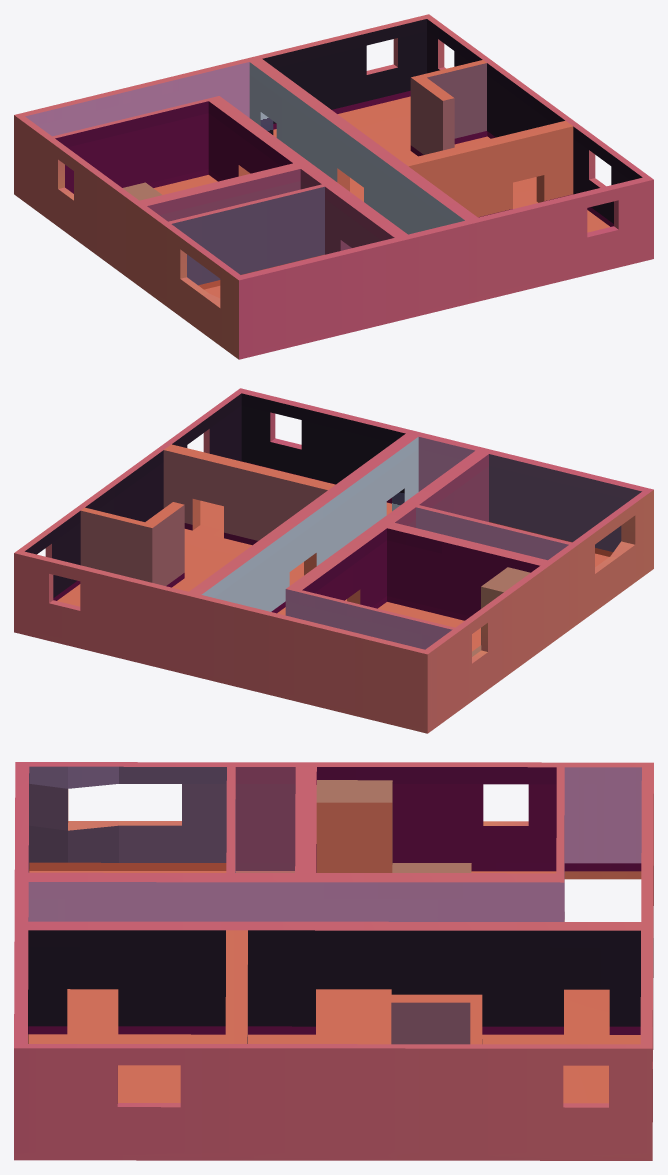
Rendered from House_SecondFloor.fbx.
3 renders of one model, top to bottom at view 1: azimuth 30°, elevation 25°; view 2: azimuth 150°, elevation 25°; view 3: azimuth 270°, elevation 25°, orthographic. The views are drawn at different scales.
Visible parts, largest first — view 1: Cube.343; view 2: Cube.343; view 3: Cube.343.
Part boxes in pixels (box(x1,y1,x2,y2)): Cube.343: box(14, 14, 653, 359); Cube.343: box(14, 388, 653, 733); Cube.343: box(14, 762, 653, 1160).
Bounding box in the file's own units: 1431 × 261 × 1350.
